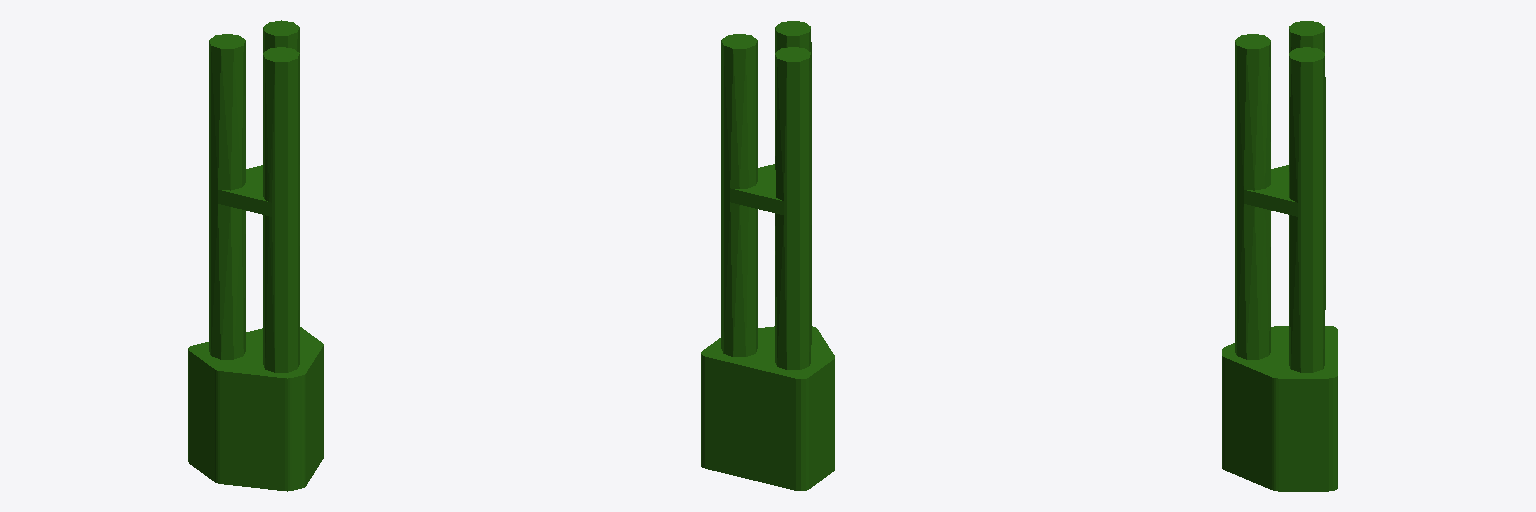
robot.urdf — Small_Long_3Prong_Green:
<?xml version="1.0"?>
<robot name="Small_Long_3Prong_Green">
    <link name="Small_Long_3Prong_Green">
        <visual>
            <geometry>
                <mesh filename="../mesh/factory_insertion/Small_Long_3Prong_Green.obj" scale="0.001 0.001 0.001"/>
            </geometry>
            <material name="Green">
              <color rgba="0.21 0.46 0.11 0.0"/>
            </material>
        </visual>
        <collision>
            <geometry>
                <mesh filename="../mesh/factory_insertion/Small_Long_3Prong_Green.obj" scale="0.001 0.001 0.001"/>
            </geometry>
            <sdf resolution="512"/>
        </collision>
    </link>
</robot>

--- What the picture shows (computed from the rendered views, not written in the file) ---
Views: 3 orthographic renders of the robot side by side, from view 1: azimuth 30°, elevation 25°; view 2: azimuth 150°, elevation 25°; view 3: azimuth 270°, elevation 25°.
Model Small_Long_3Prong_Green with 1 links and 0 joints (none), rooted at Small_Long_3Prong_Green, posed all joints at 0.
Visible links, largest first — view 1: Small_Long_3Prong_Green; view 2: Small_Long_3Prong_Green; view 3: Small_Long_3Prong_Green.
Boxes of the visible links, left/top/right/bottom form: Small_Long_3Prong_Green: left=188, top=20, right=323, bottom=491; Small_Long_3Prong_Green: left=701, top=21, right=834, bottom=490; Small_Long_3Prong_Green: left=1222, top=21, right=1337, bottom=491.
Bounding box of the posed robot: 0.04 × 0.0373 × 0.15 m (x, y, z).
1 mesh visuals loaded from 1 distinct referenced files (1 OBJ).
